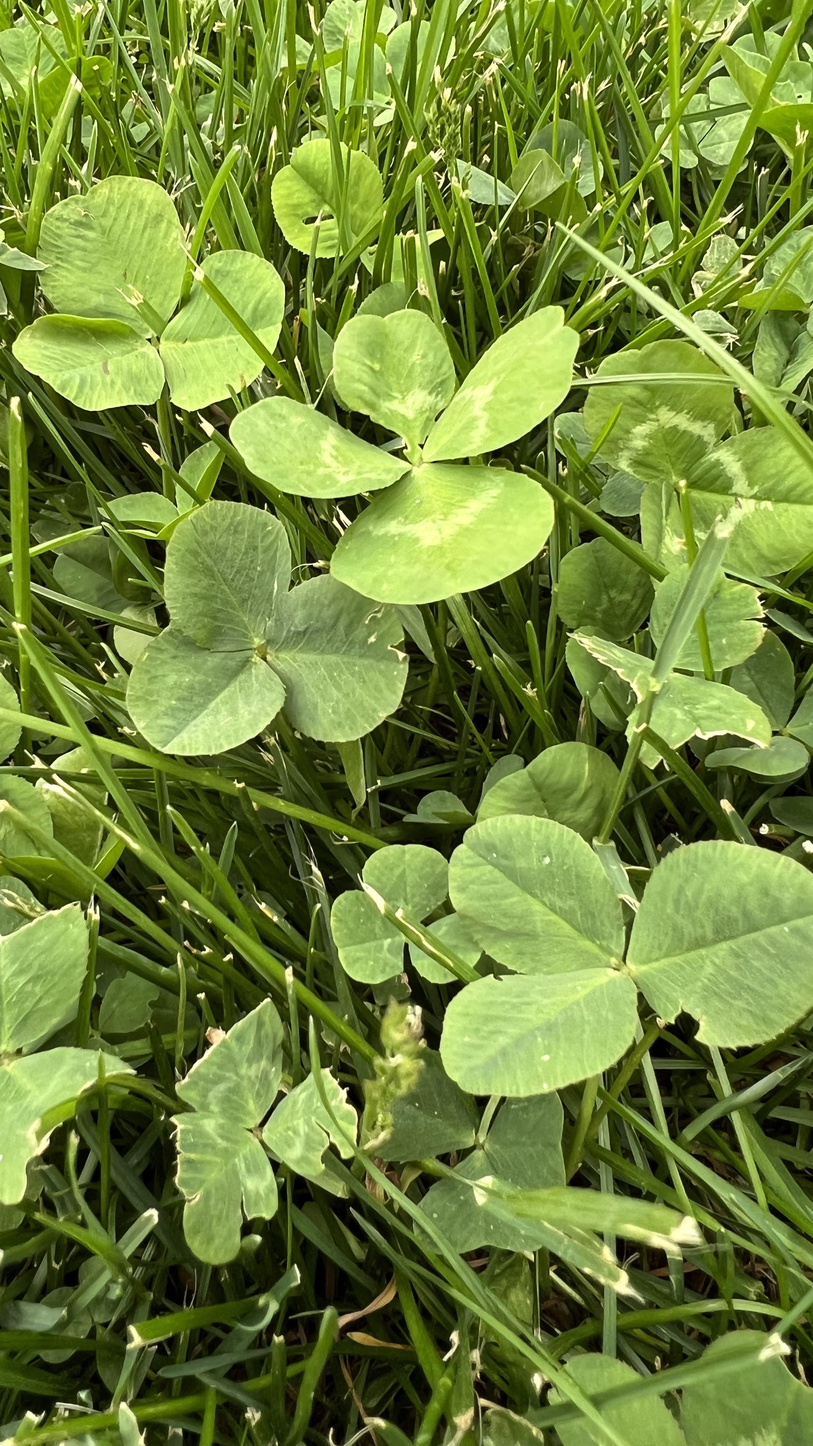4-Leaf-Clovers: (174, 410, 337, 1024)
